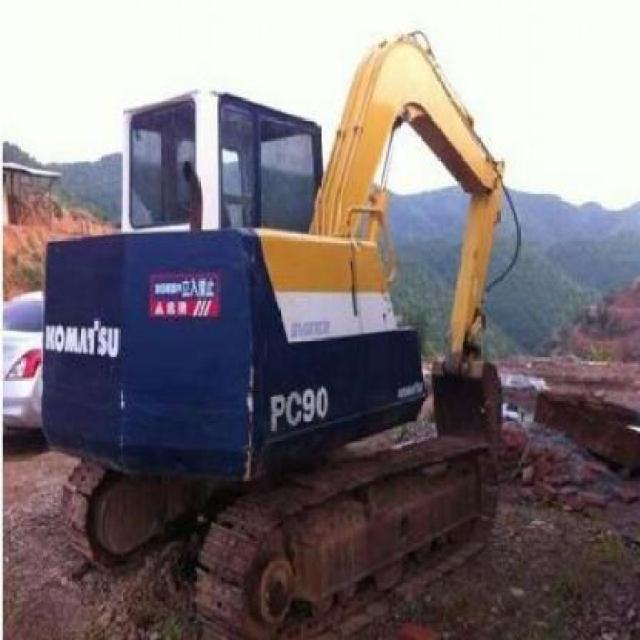excavator: (37, 23, 520, 639)
